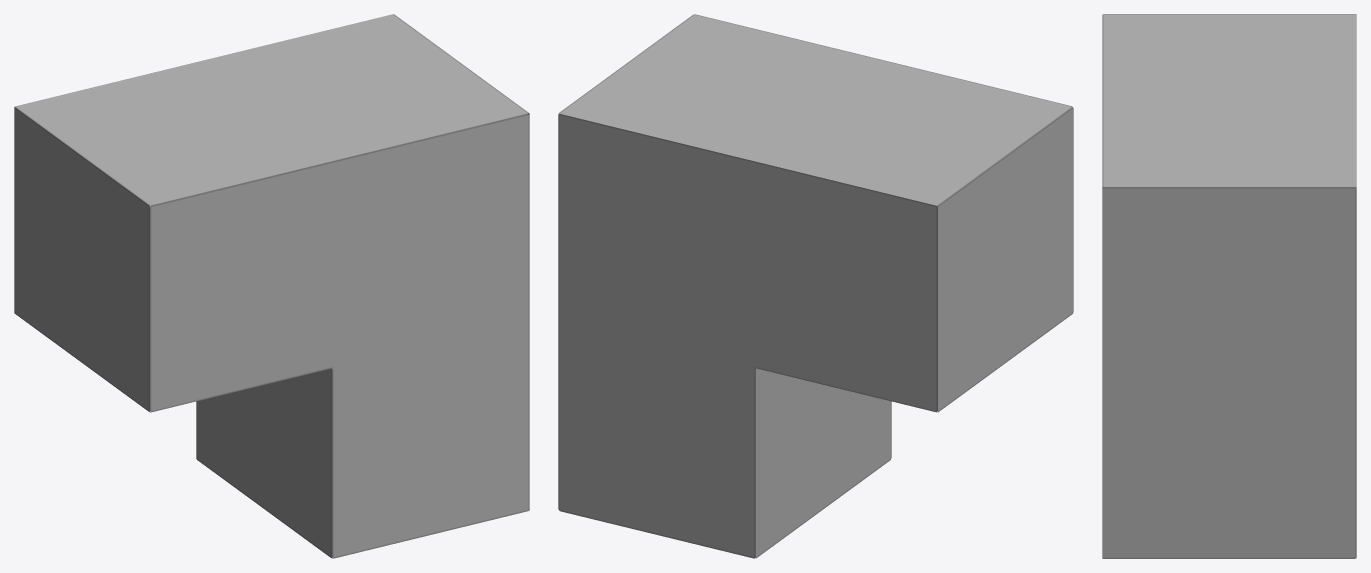
File: pz_counter_wooden_wall_corner.obj
The picture shows the model from 3 angles, left to right: view 1: azimuth 30°, elevation 25°; view 2: azimuth 150°, elevation 25°; view 3: azimuth 270°, elevation 25°; orthographic projection. The views are drawn at different scales.
Size of the model in its own units: 1 by 1 by 0.62.
1 material, 1 textured.
